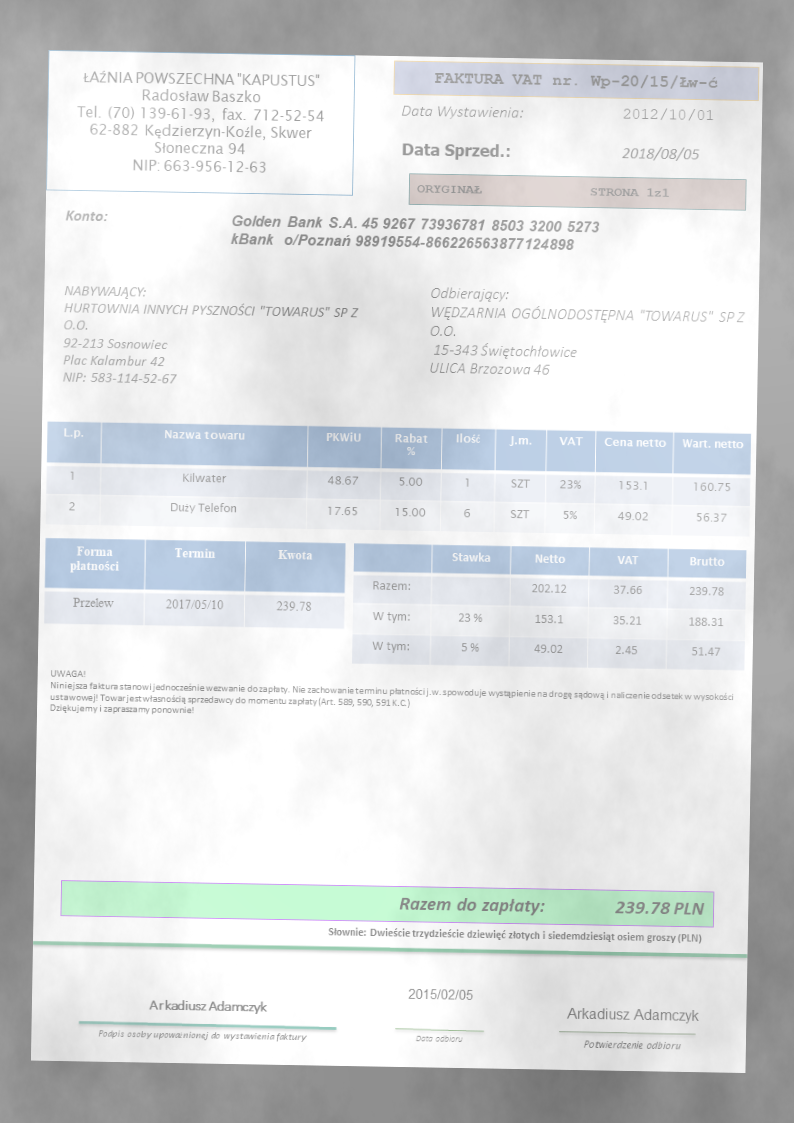Table: (44, 420, 752, 539), (350, 541, 747, 671), (41, 536, 347, 630)
TextBox: (47, 667, 735, 726), (60, 282, 362, 389), (426, 284, 746, 382), (73, 67, 327, 176), (228, 212, 602, 254), (326, 923, 702, 945), (396, 893, 707, 919), (432, 67, 721, 92), (413, 179, 671, 201), (95, 1026, 310, 1045), (564, 1005, 702, 1026), (399, 102, 526, 123), (399, 139, 512, 162), (147, 997, 270, 1016), (621, 106, 717, 126), (580, 1037, 682, 1052), (620, 145, 702, 162), (406, 985, 474, 1003), (64, 207, 108, 225), (413, 1032, 463, 1044)
